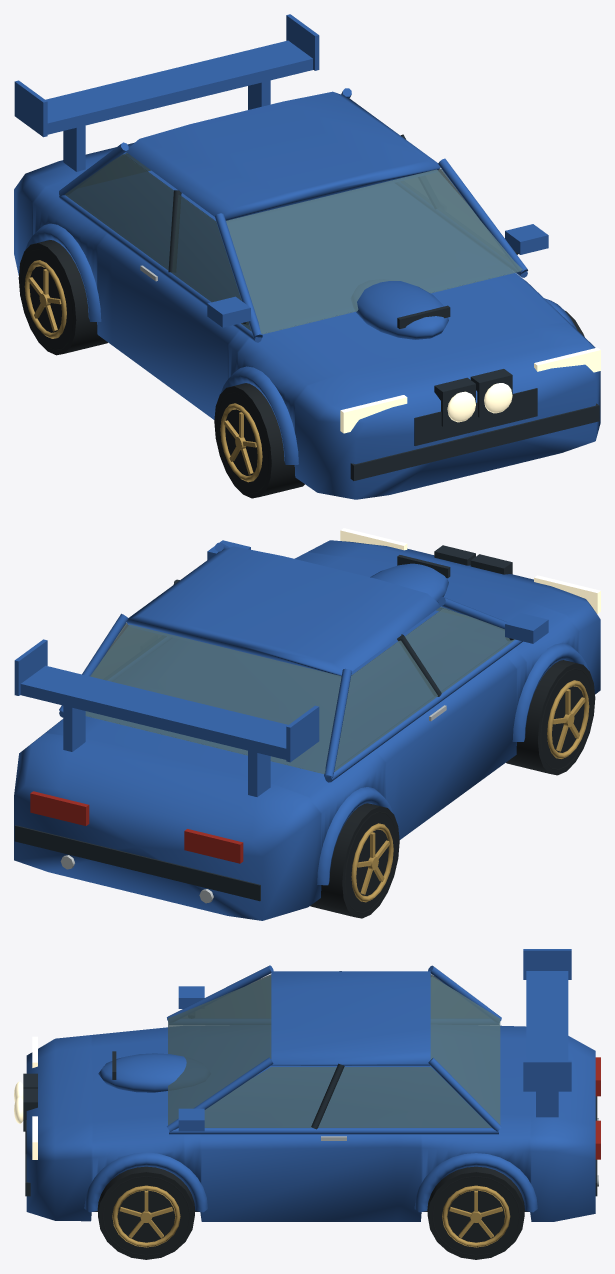
File: boxer.glb
The picture shows the model from 3 angles, top to bottom: view 1: azimuth 30°, elevation 25°; view 2: azimuth 150°, elevation 25°; view 3: azimuth 270°, elevation 25°; orthographic projection. The views are drawn at different scales.
Visible parts, largest first — view 1: exterior-paint, windows, black-trim, tire-front-left, tire-rear-left, headlights, rim-rear-left, rim-front-left; view 2: exterior-paint, windows, black-trim, tire-front-left, tire-rear-left, taillights, rim-rear-left, rim-front-left, headlights; view 3: exterior-paint, windows, tire-rear-right, tire-front-right, black-trim, rim-front-right, rim-rear-right, headlights, taillights.
Boxes of the visible parts, left/top/right/bottom form: exterior-paint: left=14, top=14, right=600, bottom=499; windows: left=64, top=153, right=522, bottom=334; black-trim: left=168, top=134, right=599, bottom=480; tire-front-left: left=214, top=383, right=304, bottom=498; tire-rear-left: left=18, top=240, right=107, bottom=355; headlights: left=340, top=347, right=600, bottom=433; rim-rear-left: left=24, top=260, right=66, bottom=338; rim-front-left: left=220, top=403, right=262, bottom=482; exterior-paint: left=14, top=540, right=600, bottom=920; windows: left=85, top=606, right=514, bottom=773; black-trim: left=14, top=545, right=513, bottom=901; tire-front-left: left=506, top=660, right=595, bottom=775; tire-rear-left: left=310, top=803, right=399, bottom=918; taillights: left=30, top=791, right=243, bottom=863; rim-rear-left: left=351, top=823, right=393, bottom=902; rim-front-left: left=547, top=680, right=589, bottom=758; headlights: left=340, top=528, right=600, bottom=613; exterior-paint: left=26, top=949, right=595, bottom=1221; windows: left=168, top=974, right=500, bottom=1127; tire-rear-right: left=427, top=1166, right=524, bottom=1259; tire-front-right: left=98, top=1166, right=194, bottom=1259; black-trim: left=23, top=971, right=597, bottom=1211; rim-front-right: left=112, top=1185, right=180, bottom=1247; rim-rear-right: left=442, top=1185, right=510, bottom=1247; headlights: left=14, top=1036, right=37, bottom=1159; taillights: left=595, top=1057, right=600, bottom=1159.
Size of the model in its own units: 2 by 1.28 by 3.63.
